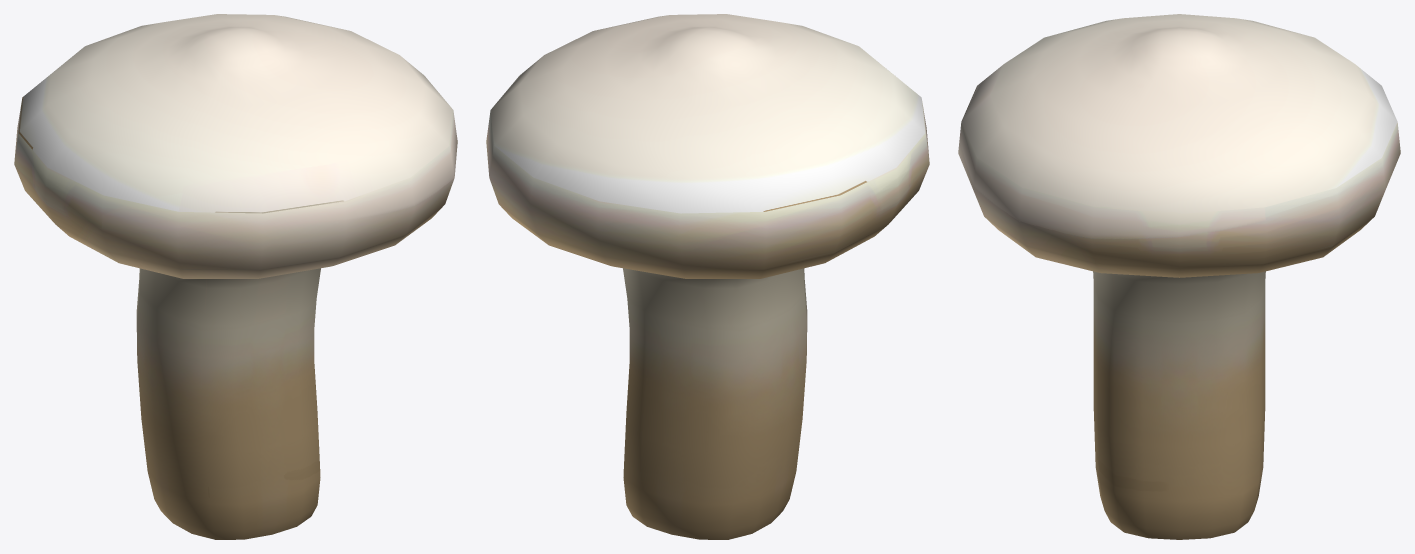
The model's file is funnyMush.fbx.
3 renders of one model, left to right at view 1: azimuth 30°, elevation 25°; view 2: azimuth 150°, elevation 25°; view 3: azimuth 270°, elevation 25°, orthographic.
Parts seen in each view (by area): view 1: Cube.003; view 2: Cube.003; view 3: Cube.003.
Part boxes in pixels (x1=…): Cube.003: x1=14, y1=14, x2=457, y2=539; Cube.003: x1=486, y1=14, x2=929, y2=539; Cube.003: x1=958, y1=14, x2=1400, y2=539.
Bounding box in the file's own units: 214 × 252 × 214.
